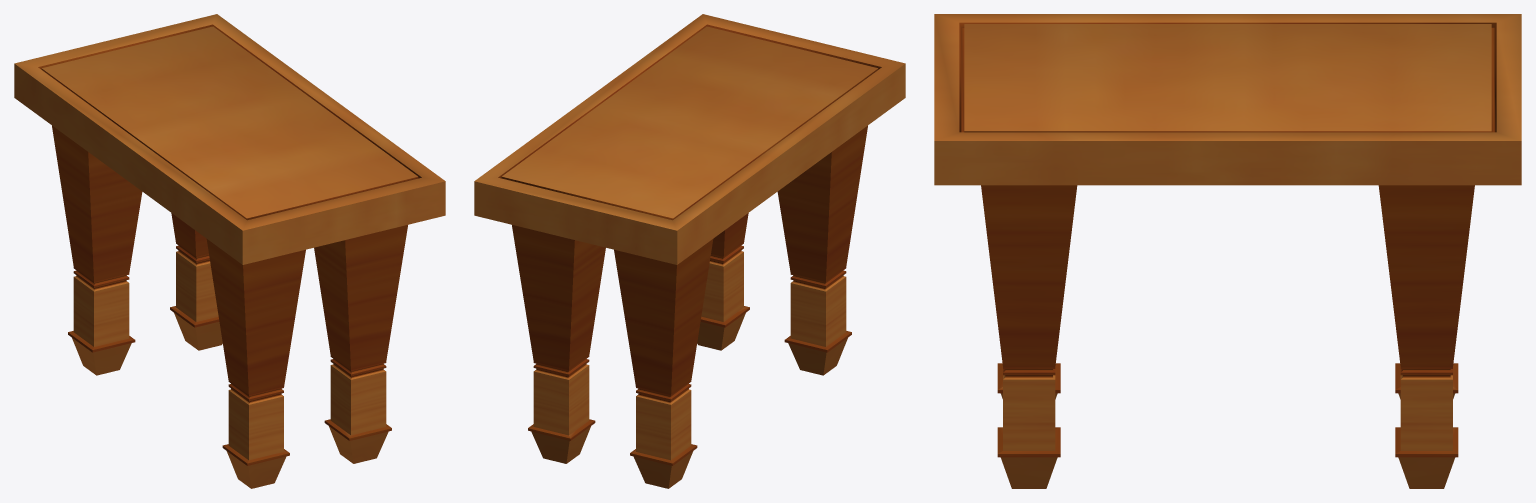
The model's file is table textured.fbx.
The picture shows the model from 3 angles, left to right: view 1: azimuth 30°, elevation 25°; view 2: azimuth 150°, elevation 25°; view 3: azimuth 270°, elevation 25°; orthographic projection. The views are drawn at different scales.
Parts seen in each view (by area): view 1: Table Surface.001, Table leg.001, Table leg.004, Table leg.003, Table leg.002; view 2: Table Surface.001, Table leg.003, Table leg.002, Table leg.001, Table leg.004; view 3: Table Surface.001, Table leg.002, Table leg.004.
Part boxes in pixels (left/top/right/bottom): Table Surface.001: left=14, top=14, right=445, bottom=264; Table leg.001: left=206, top=239, right=305, bottom=488; Table leg.004: left=314, top=225, right=407, bottom=463; Table leg.003: left=52, top=125, right=142, bottom=375; Table leg.002: left=170, top=213, right=222, bottom=350; Table Surface.001: left=474, top=14, right=905, bottom=264; Table leg.003: left=614, top=239, right=713, bottom=488; Table leg.002: left=512, top=225, right=605, bottom=463; Table leg.001: left=777, top=125, right=867, bottom=375; Table leg.004: left=697, top=213, right=749, bottom=350; Table Surface.001: left=934, top=14, right=1521, bottom=185; Table leg.002: left=1378, top=185, right=1474, bottom=488; Table leg.004: left=981, top=185, right=1077, bottom=488.
Bounding box in the file's own units: 1066 × 1455 × 2080.
